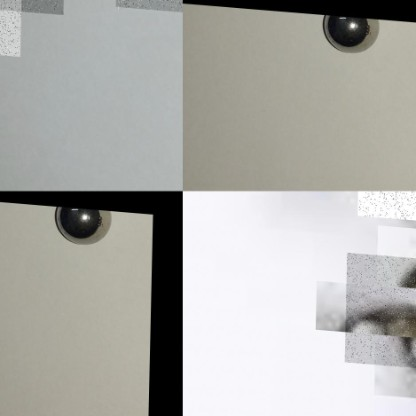ironball: (345, 246, 415, 361), (48, 207, 112, 246), (321, 14, 380, 50), (0, 0, 21, 54)
